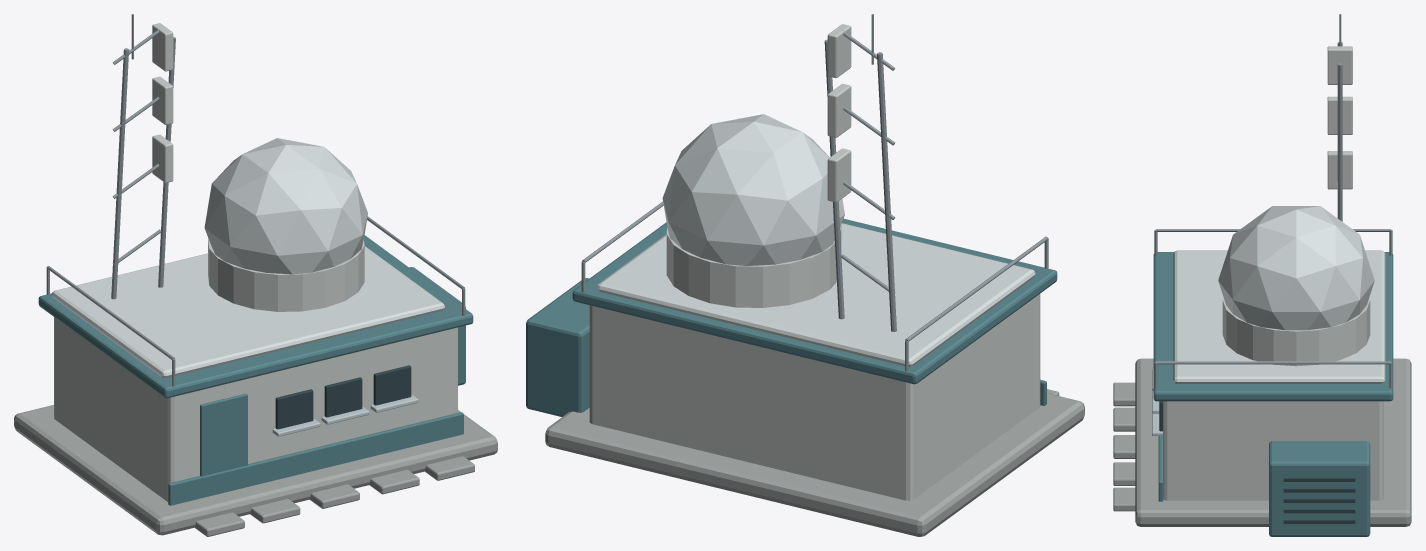
Rendered from MountainWeatherStation.glb.
3 views of the same model, side by side, from view 1: azimuth 30°, elevation 25°; view 2: azimuth 150°, elevation 25°; view 3: azimuth 270°, elevation 25° (orthographic). The views are drawn at different scales.
Visible parts, largest first — view 1: Insulated station body, Roof snow, Weather radar radome, Station foundation, Station flat roof, Station lower fascia, Radome plinth, Service door, Radio mast leg, Weather station window, Weather station window.001, Weather station window.002 (+11 smaller); view 2: Insulated station body, Roof snow, Weather radar radome, Station foundation, Station flat roof, Radome plinth, Emergency power box, Radio mast leg, Antenna panel, Antenna panel.001, Antenna panel.002, Radio mast leg.001 (+1 smaller); view 3: Insulated station body, Weather radar radome, Roof snow, Station foundation, Emergency power box, Station flat roof, Radome plinth, Roof side handrail.001, Radio mast leg.001, Antenna panel.002, Antenna panel, Antenna panel.001 (+8 smaller).
Part boxes in pixels (<box>): Insulated station body: <box>54,317,457,501</box>; Roof snow: <box>52,246,444,377</box>; Weather radar radome: <box>204,138,367,274</box>; Station foundation: <box>14,405,497,535</box>; Station flat roof: <box>38,235,473,398</box>; Station lower fascia: <box>168,412,463,505</box>; Radome plinth: <box>208,238,364,311</box>; Service door: <box>200,393,247,476</box>; Radio mast leg: <box>111,48,128,299</box>; Weather station window: <box>275,389,313,429</box>; Weather station window.001: <box>324,377,362,417</box>; Weather station window.002: <box>373,365,411,405</box>; Insulated station body: <box>589,294,1040,500</box>; Roof snow: <box>597,223,1035,366</box>; Weather radar radome: <box>662,114,844,265</box>; Station foundation: <box>545,393,1084,536</box>; Station flat roof: <box>572,218,1057,384</box>; Radome plinth: <box>666,226,841,307</box>; Emergency power box: <box>526,278,589,416</box>; Radio mast leg: <box>877,52,896,331</box>; Antenna panel: <box>827,148,851,202</box>; Antenna panel.001: <box>827,84,851,137</box>; Antenna panel.002: <box>827,24,851,77</box>; Radio mast leg.001: <box>824,39,844,319</box>; Insulated station body: <box>1163,401,1383,500</box>; Weather radar radome: <box>1218,206,1374,330</box>; Roof snow: <box>1173,250,1385,383</box>; Station foundation: <box>1135,358,1411,526</box>; Emergency power box: <box>1269,441,1370,536</box>; Station flat roof: <box>1153,252,1393,401</box>; Radome plinth: <box>1222,298,1370,366</box>; Roof side handrail.001: <box>1156,361,1390,364</box>; Radio mast leg.001: <box>1337,63,1342,221</box>; Antenna panel.002: <box>1327,46,1352,84</box>; Antenna panel: <box>1327,151,1352,189</box>; Antenna panel.001: <box>1327,96,1352,134</box>.
Size of the model in its own units: 8.94 by 9.5 by 6.48.
